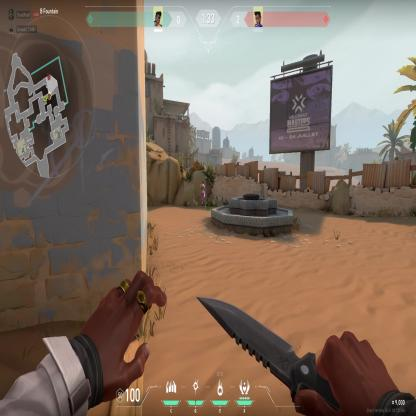enemy: (200, 180, 206, 208)
